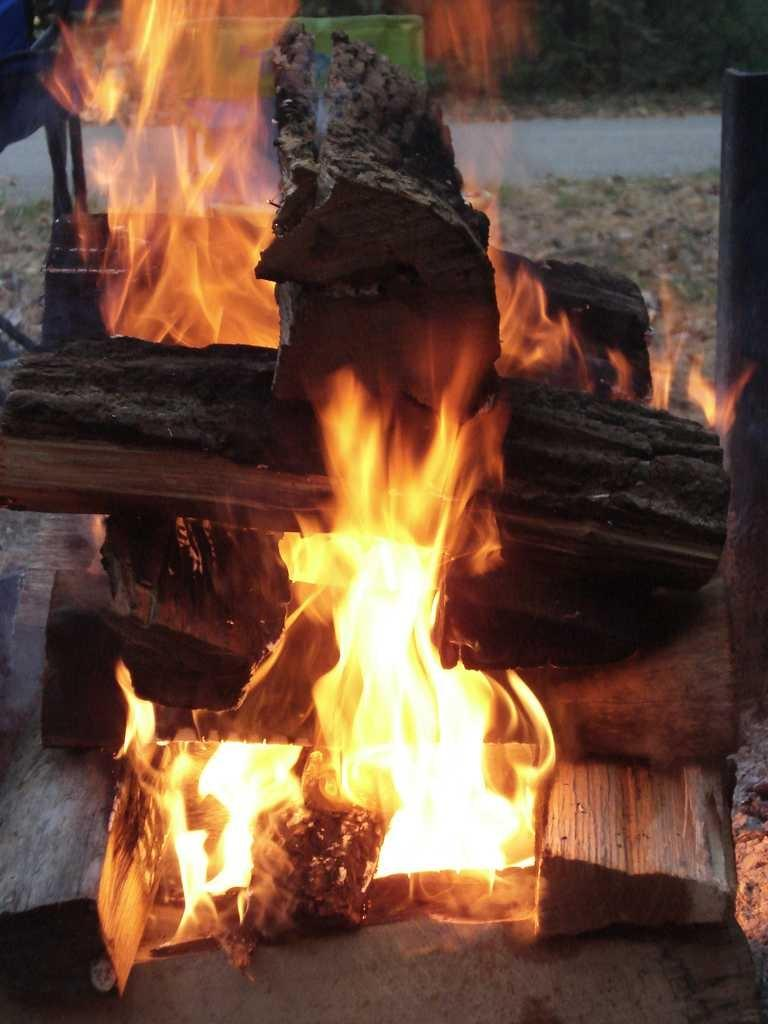fire: (145, 55, 265, 330), (355, 575, 460, 838), (185, 752, 292, 830)
